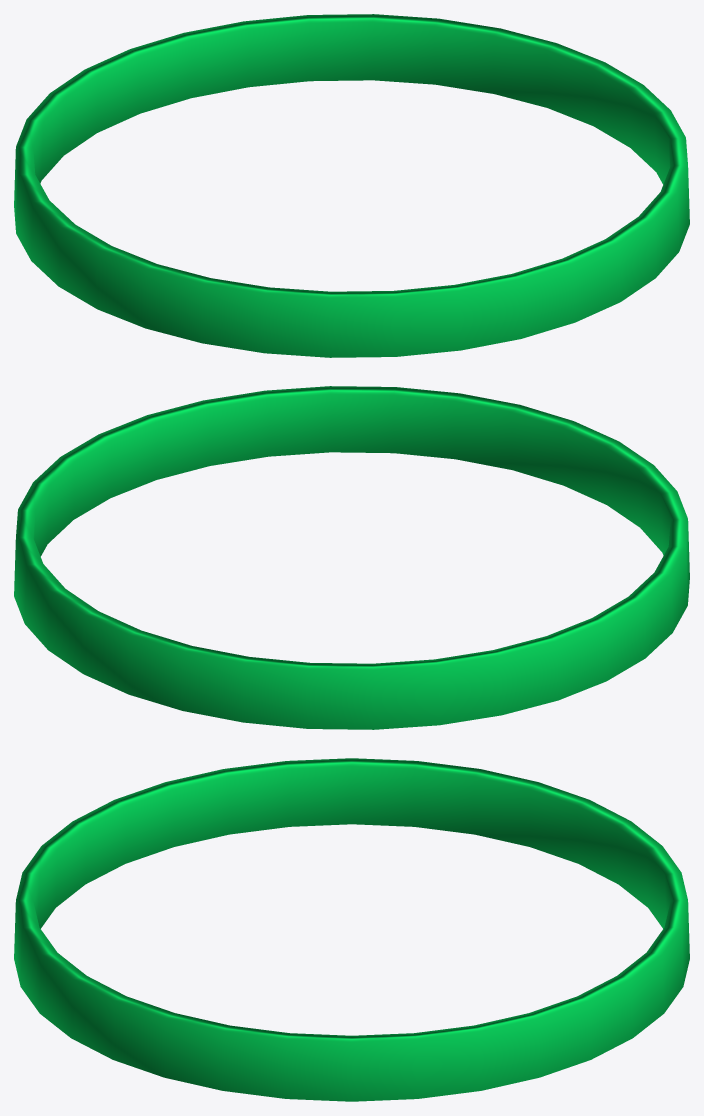
File: Barrel_Break_Metal_02.fbx
The picture shows the model from 3 angles, top to bottom: view 1: azimuth 30°, elevation 25°; view 2: azimuth 150°, elevation 25°; view 3: azimuth 270°, elevation 25°; orthographic projection.
Visible parts, largest first — view 1: Barrel_Break_Metal_02; view 2: Barrel_Break_Metal_02; view 3: Barrel_Break_Metal_02.
Part boxes in pixels (x1,y1,x2,y2): Barrel_Break_Metal_02: (14,14,689,357); Barrel_Break_Metal_02: (14,386,689,729); Barrel_Break_Metal_02: (14,758,689,1101).
Size of the model in its own units: 66.02 by 6.42 by 66.02.
